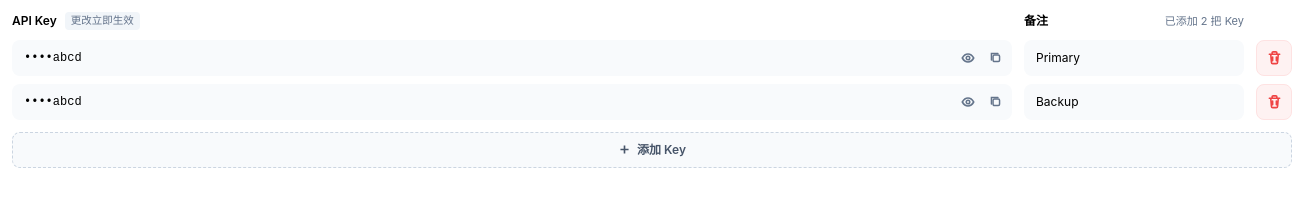
Scenario: ChannelKeyManager › requires confirmation to delete and retains the list on errors
The width and height of the screenshot is (1304, 211).
Click the button named "删除 Primary".
click(1274, 58)  # box 1256,40 -> 1292,76
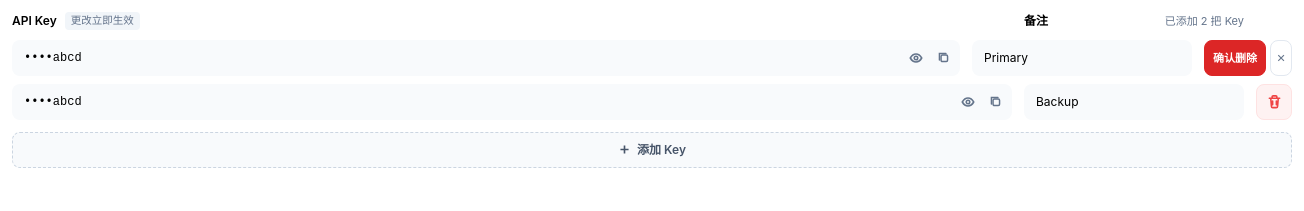
Click the button "确认删除".
click(1235, 58)  # box 1204,40 -> 1266,76
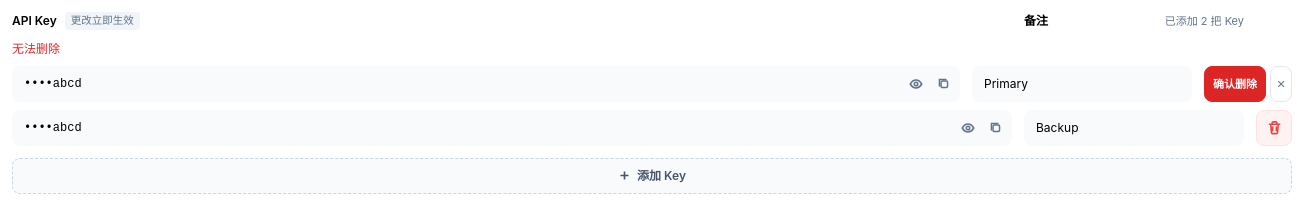
Check: the 1st field with class "key-name-input" holds "Primary", box 972,66 -> 1192,102
Check: the text "无法删除" is shown, box 12,41 -> 60,56
